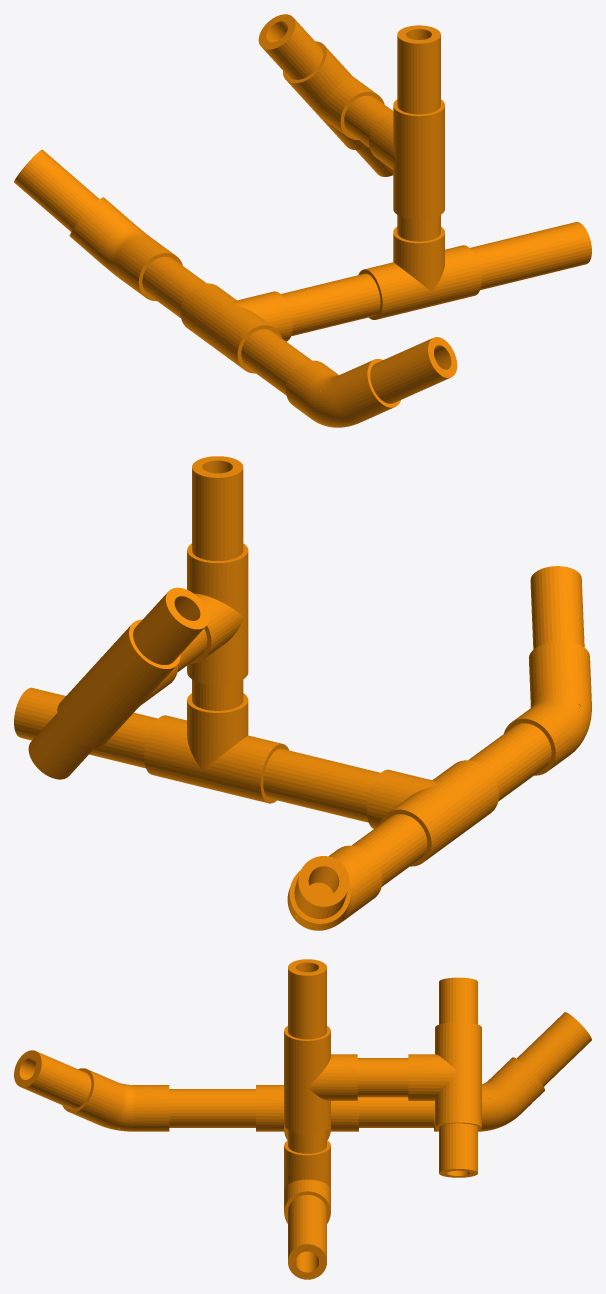
File: coral.dae
3 renders of one model, top to bottom at view 1: azimuth 30°, elevation 25°; view 2: azimuth 150°, elevation 25°; view 3: azimuth 270°, elevation 25°, orthographic. The views are drawn at different scales.
Parts seen in each view (by area): view 1: coral_assembly (1); view 2: coral_assembly (1); view 3: coral_assembly (1).
Part boxes in pixels (x1,y1,x2,y2): coral_assembly (1): (14,14,591,427); coral_assembly (1): (14,456,591,930); coral_assembly (1): (14,959,591,1279).
Size of the model in its own units: 0.1745 by 0.2315 by 0.1081.
